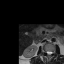CCS_normal: (48, 49, 50, 57)
LFS_normal: (52, 50, 53, 55)
LLS_normal: (50, 49, 52, 56)
RFS_stenosis: (44, 49, 46, 54)
RLS_normal: (46, 49, 48, 56)
